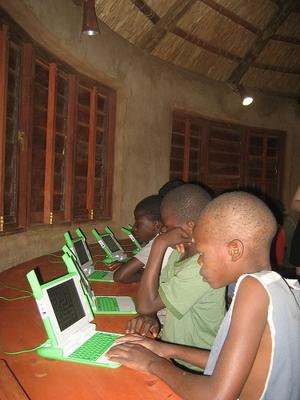person: (106, 188, 299, 400)
